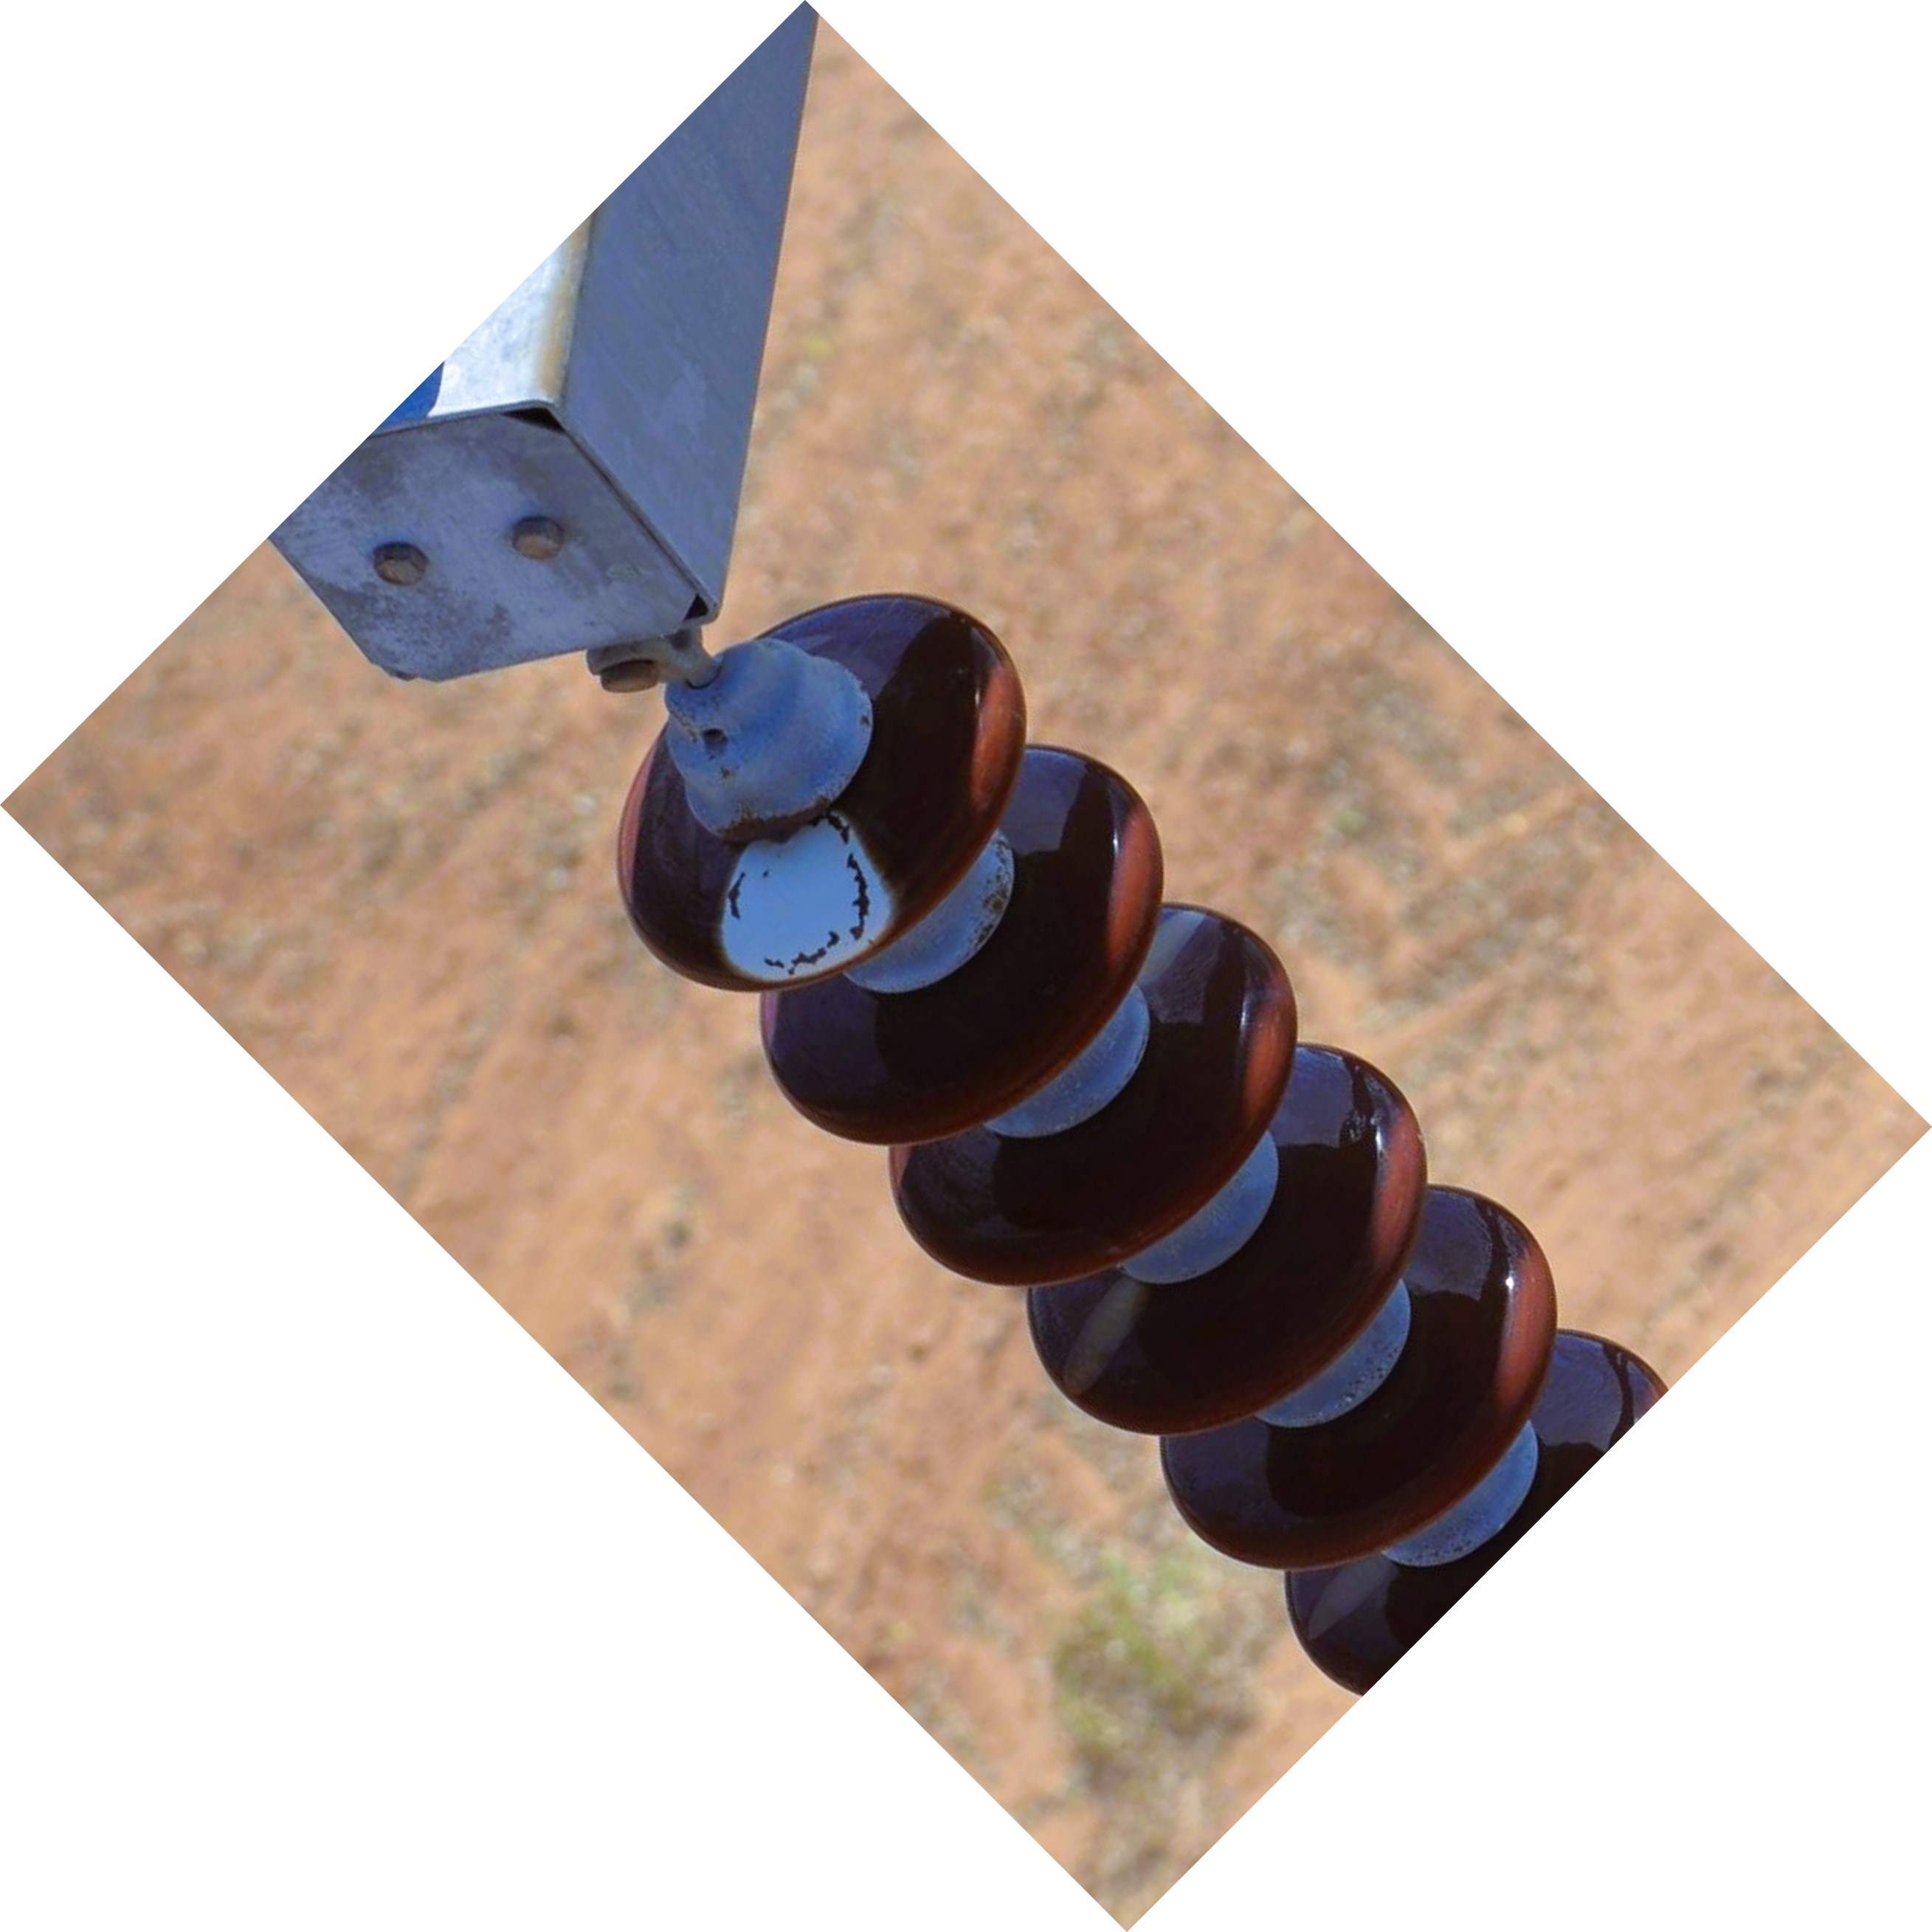Insulator flashover: (602, 561, 1035, 1001)
